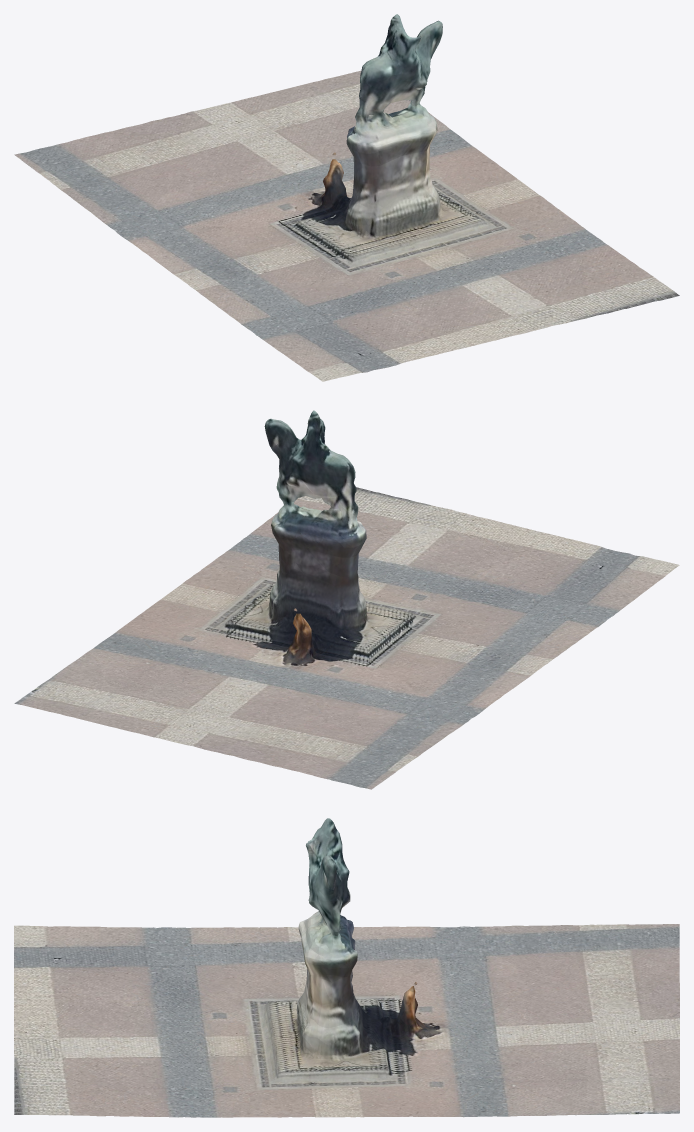
File: felipe-iii.glb
3 views of the same model, one above another, from view 1: azimuth 30°, elevation 25°; view 2: azimuth 150°, elevation 25°; view 3: azimuth 270°, elevation 25° (orthographic). The views are drawn at different scales.
Bounding box in the file's own units: 16.9 × 9.57 × 25.25.
8 materials, 8 textured.
